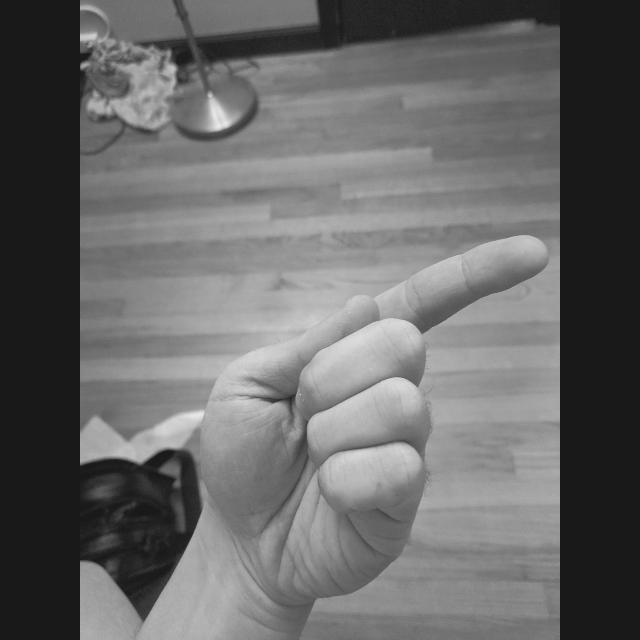G: (190, 228, 560, 612)
